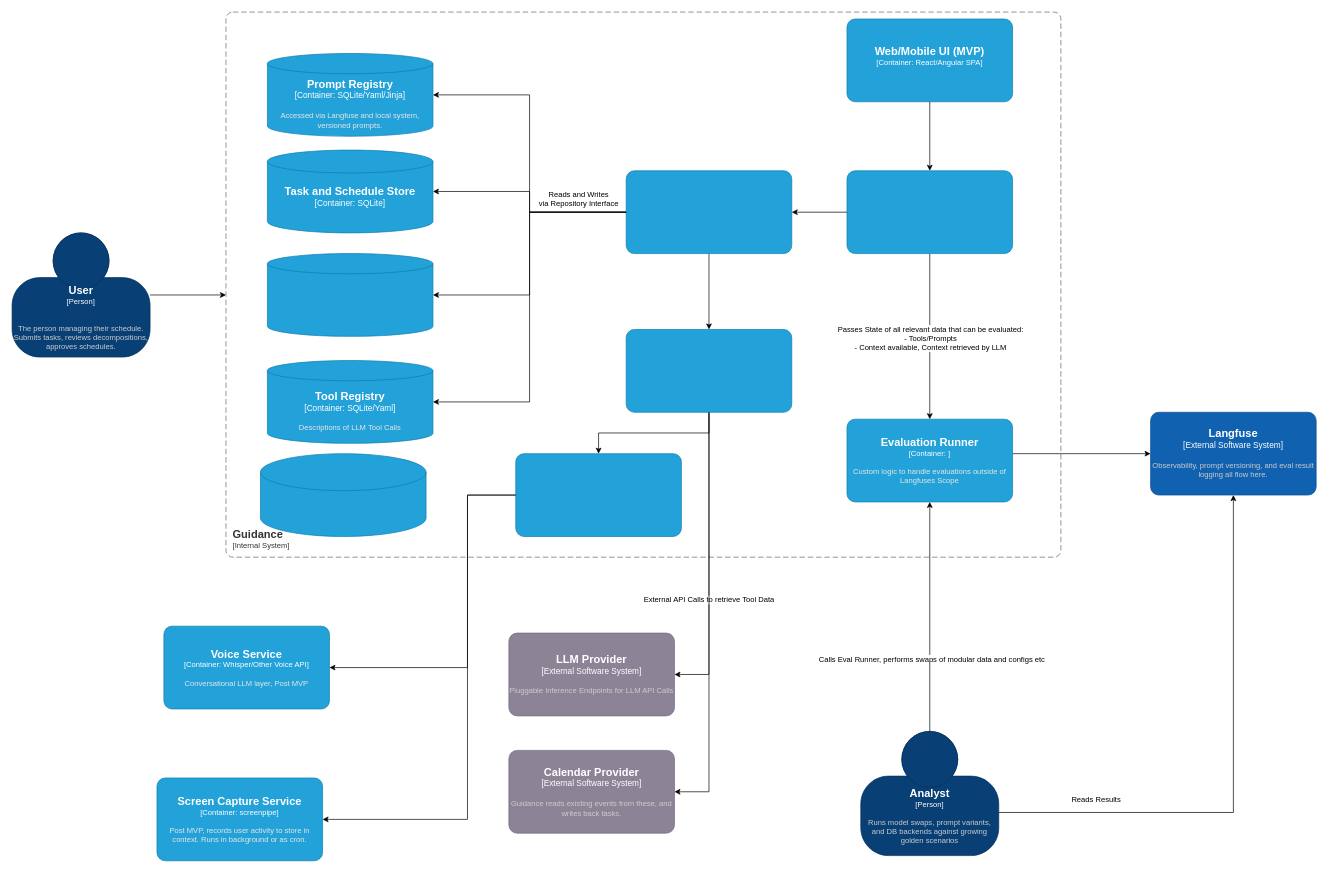
This 1328x873 diagram has some shape labels left out. The centre of each missing label's shape, as x and y in pixels:
Agent Orchestrator [Container: PocketFlow] Nodes and Flows for LLM Reasoning: the point at 708,212
API Service [Container: FastAPI]: the point at 929,212
Eval Dataset [Container: Yaml/Json?] Golden Examples and Test Runs: the point at 343,494
Tool Caller [Container: Python] Functions that an LLM can call: the point at 708,370
Tools [Container: Python] Search API/ Etc: the point at 598,494
User Context Store [Container: SQLite]: the point at 350,294
